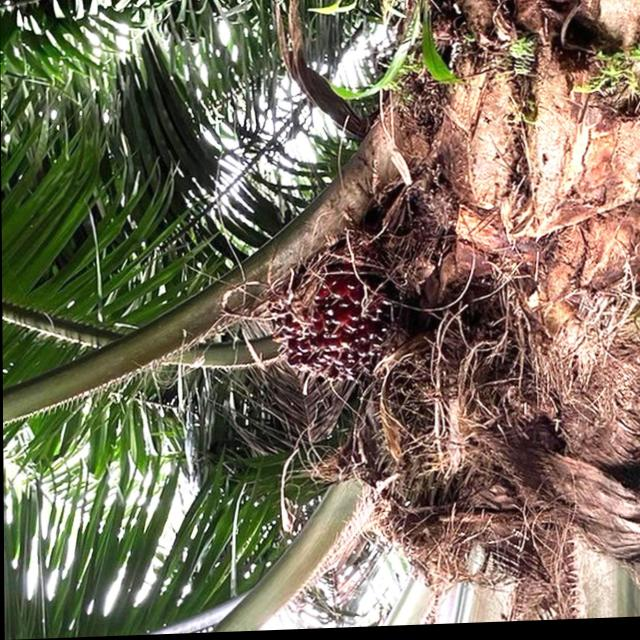ripe: (259, 232, 410, 404)
